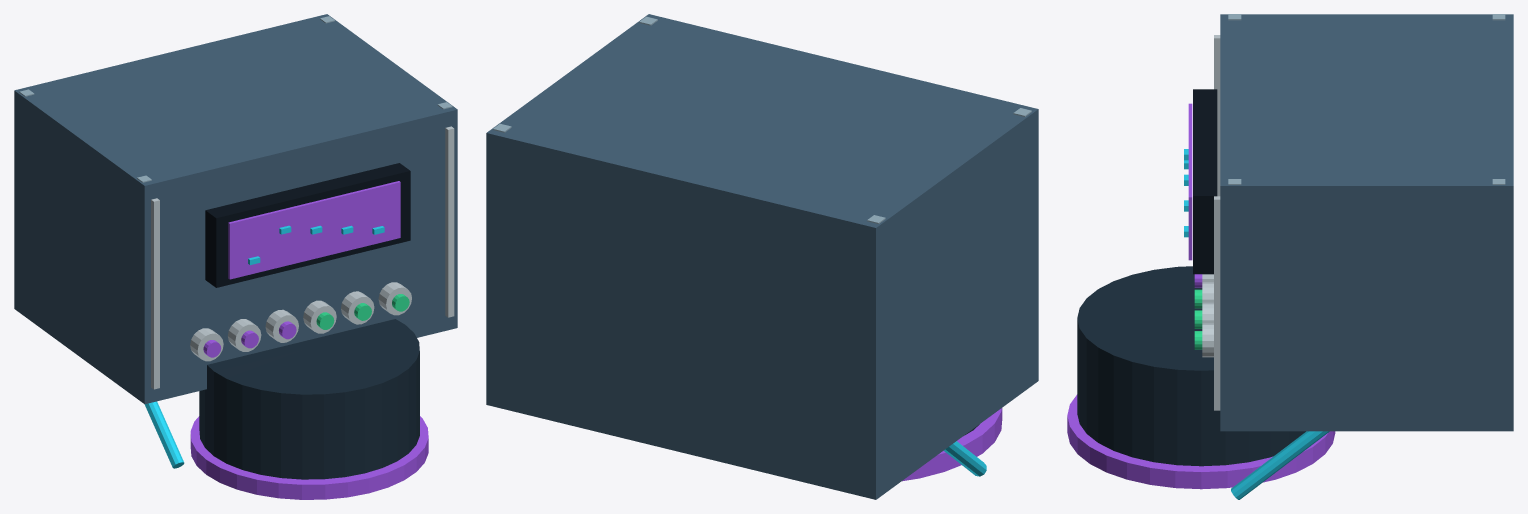
Rendered from 29_L79_ThroughSiliconInfraredCamera.fbx.
3 renders of one model, left to right at view 1: azimuth 30°, elevation 25°; view 2: azimuth 150°, elevation 25°; view 3: azimuth 270°, elevation 25°, orthographic. The views are drawn at different scales.
Visible parts, largest first — view 1: ThroughSiliconInfraredCamera; view 2: ThroughSiliconInfraredCamera; view 3: ThroughSiliconInfraredCamera.
Boxes of the visible parts, x1=… form: ThroughSiliconInfraredCamera: x1=14, y1=14, x2=457, y2=499; ThroughSiliconInfraredCamera: x1=486, y1=14, x2=1038, y2=499; ThroughSiliconInfraredCamera: x1=1067, y1=14, x2=1513, y2=499.
Size of the model in its own units: 108 by 104 by 119.
